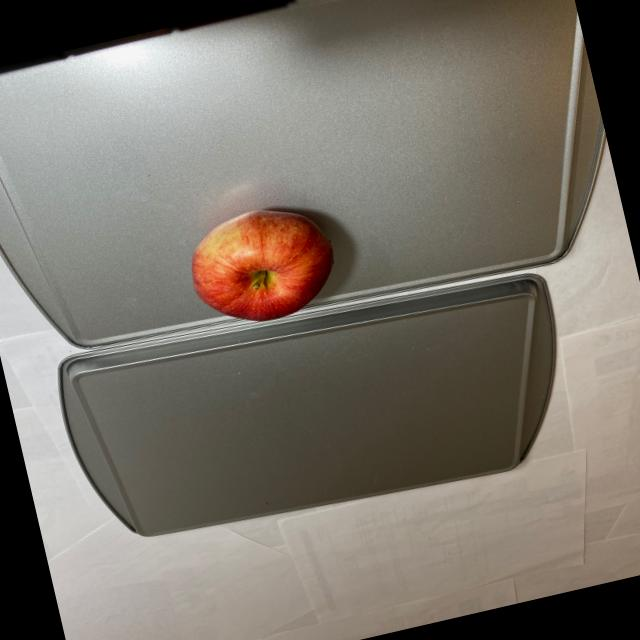apple: (179, 194, 349, 334)
